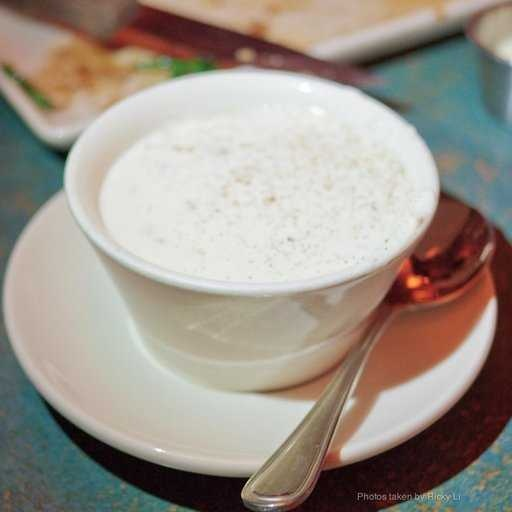soup: (93, 87, 414, 276)
